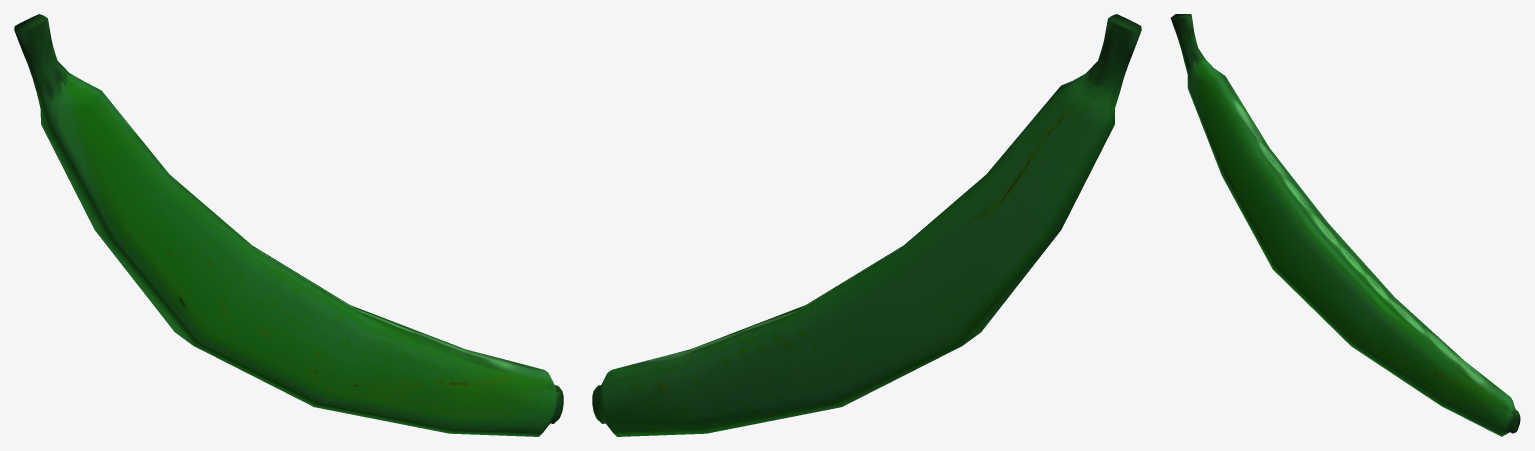
File: beans.fbx
3 renders of one model, left to right at view 1: azimuth 30°, elevation 25°; view 2: azimuth 150°, elevation 25°; view 3: azimuth 330°, elevation 25°, orthographic. The views are drawn at different scales.
Visible parts, largest first — view 1: banana_msh; view 2: banana_msh; view 3: banana_msh.
Part boxes in pixels (bbox=[...]): banana_msh: bbox=[14, 14, 563, 436]; banana_msh: bbox=[592, 14, 1141, 436]; banana_msh: bbox=[1170, 14, 1520, 436].
Bounding box in the file's own units: 8.59 × 8.11 × 0.8421.
